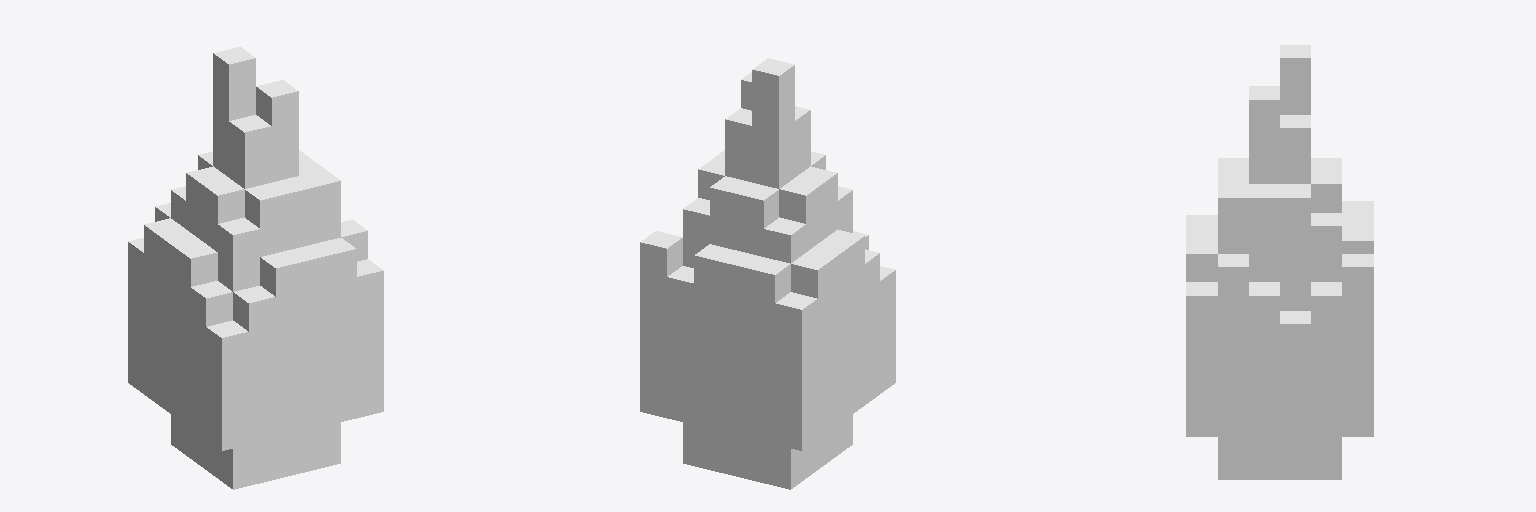
File: FireBoi.obj
3 renders of one model, left to right at view 1: azimuth 30°, elevation 25°; view 2: azimuth 150°, elevation 25°; view 3: azimuth 270°, elevation 25°, orthographic.
Visible parts, largest first — view 1: FireBoi; view 2: FireBoi; view 3: FireBoi.
Part boxes in pixels (bbox=[...]): FireBoi: bbox=[128, 47, 383, 489]; FireBoi: bbox=[640, 58, 895, 489]; FireBoi: bbox=[1186, 45, 1373, 479].
Size of the model in its own units: 6 by 14 by 6.